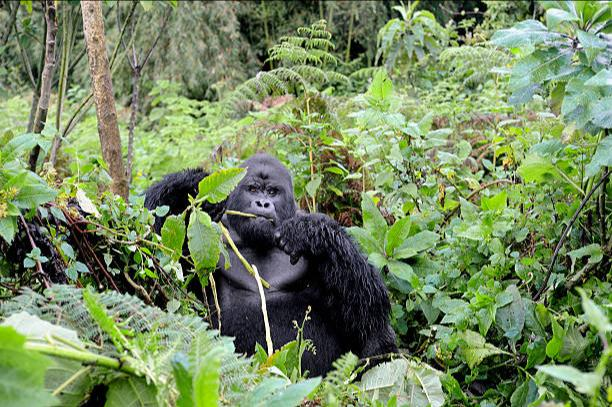goriile_montagne: (167, 154, 396, 362)
